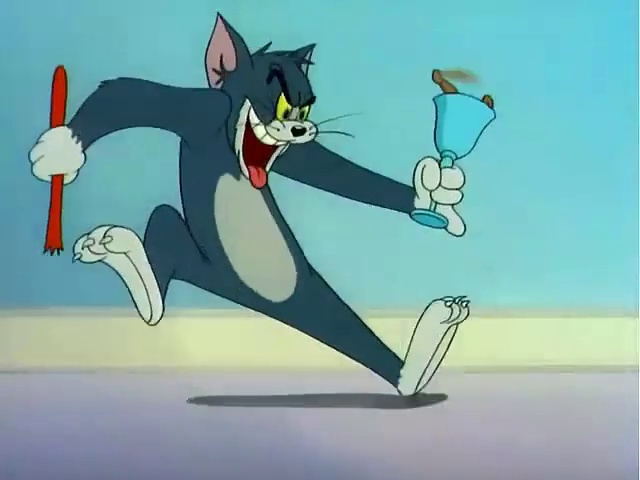tom: (61, 6, 466, 408)
